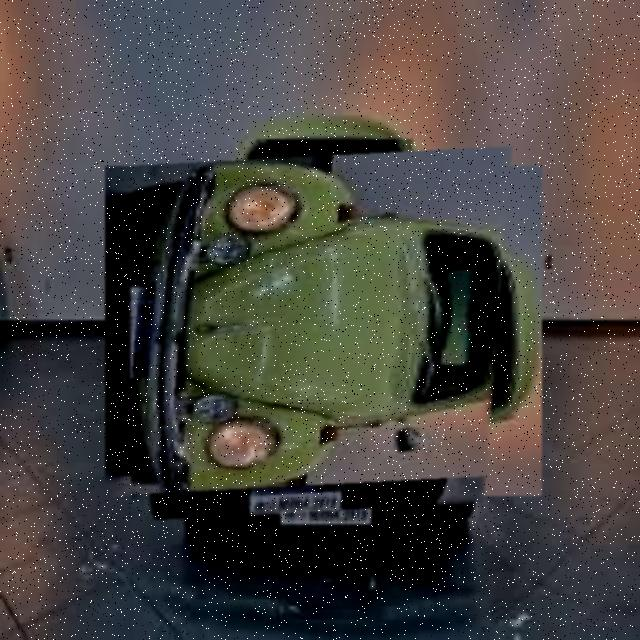car: (132, 140, 516, 524)
